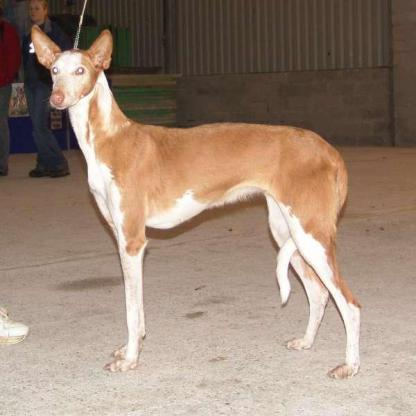dog: (30, 18, 368, 384)
